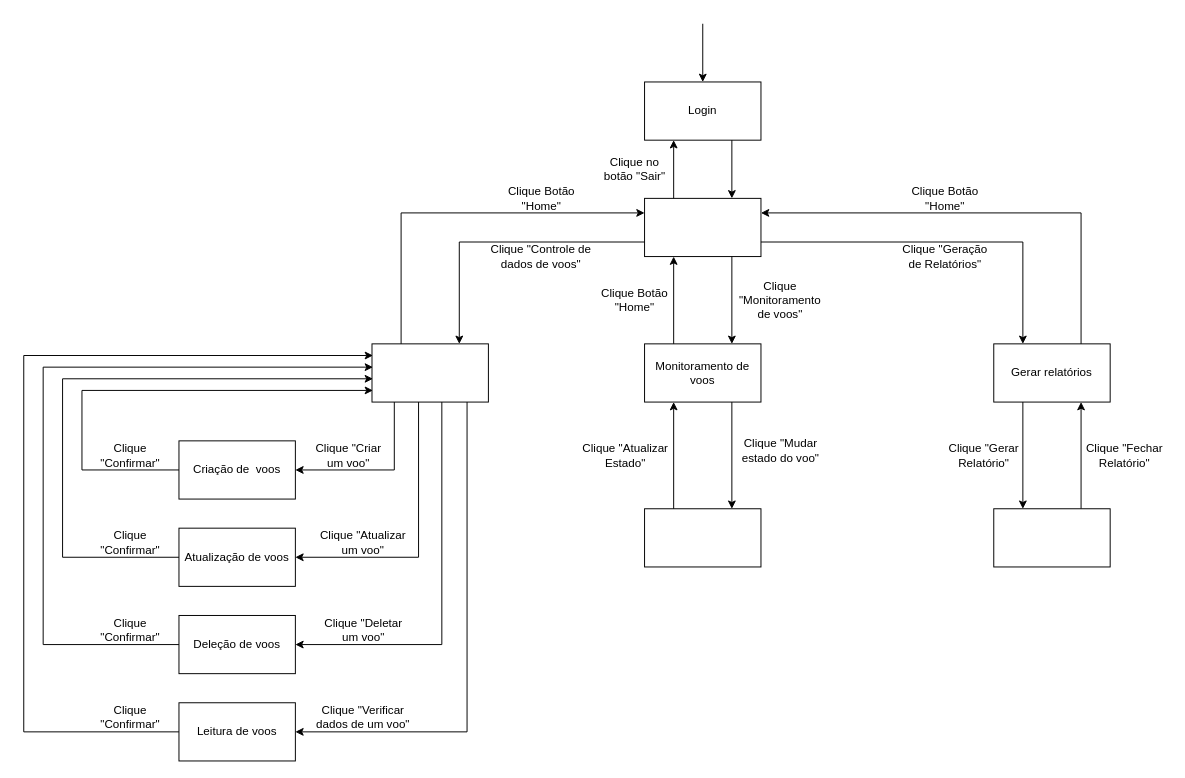
Some shapes in this 1185 by 778 pixel diagram are drawn without their labels. Here are the shapes that lost their labels. From the top down, the centre of each, then its label:
pixel 702 227: Tela inicial
pixel 429 372: Controle de dados de voos
pixel 702 537: Atualização de estado
pixel 1051 537: Tela do relatório
